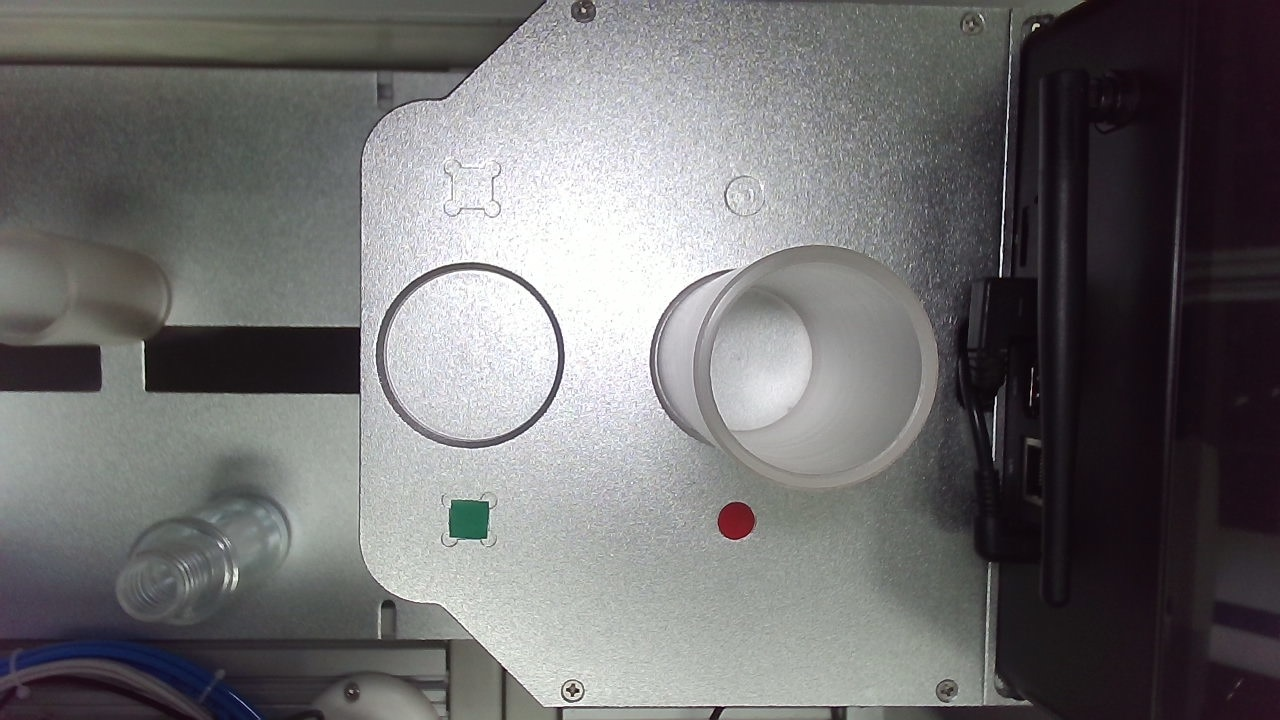XLabel: (685, 291, 719, 324)
YLabel: (465, 295, 499, 331)
none: (625, 361, 787, 524)
transparenexcept: (323, 361, 565, 573)
